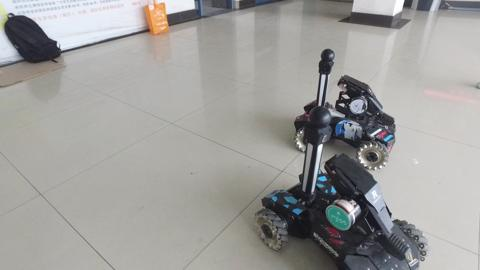bag: (2, 10, 67, 63)
chariot: (256, 105, 432, 270), (286, 48, 409, 172)
